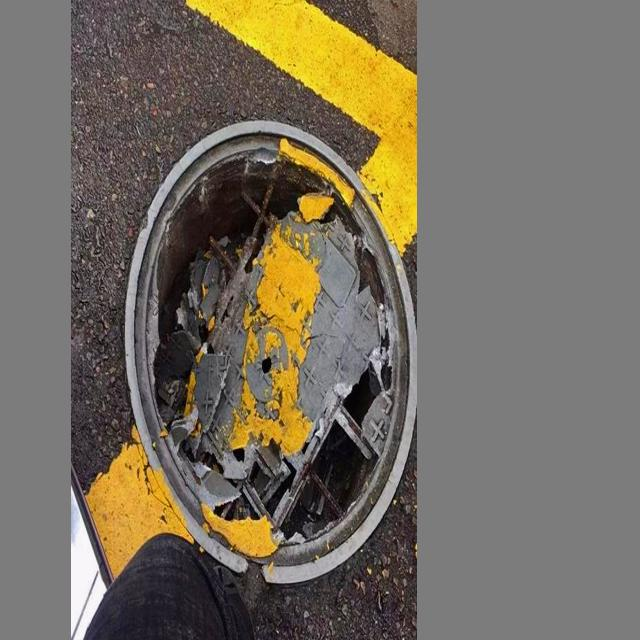broke: (116, 101, 411, 579)
